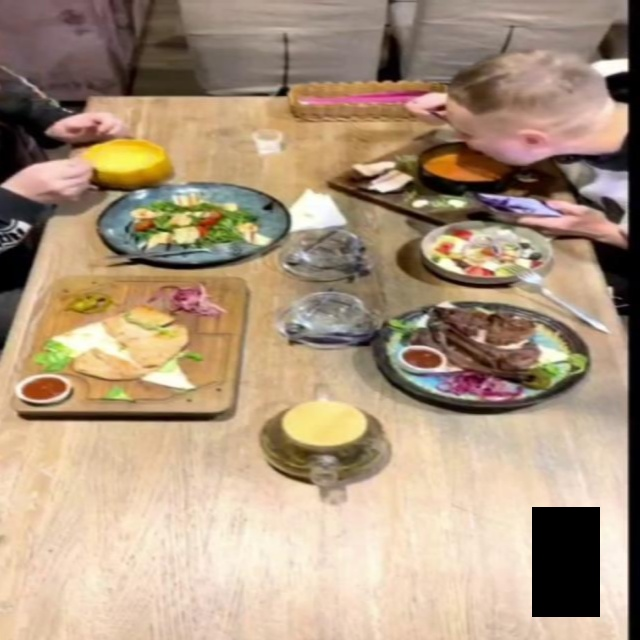meat: (13, 274, 255, 425), (370, 299, 594, 408)
salad: (95, 182, 289, 265), (420, 218, 555, 283)
soup: (325, 135, 575, 230), (80, 136, 173, 187)
tea: (249, 376, 405, 513)
